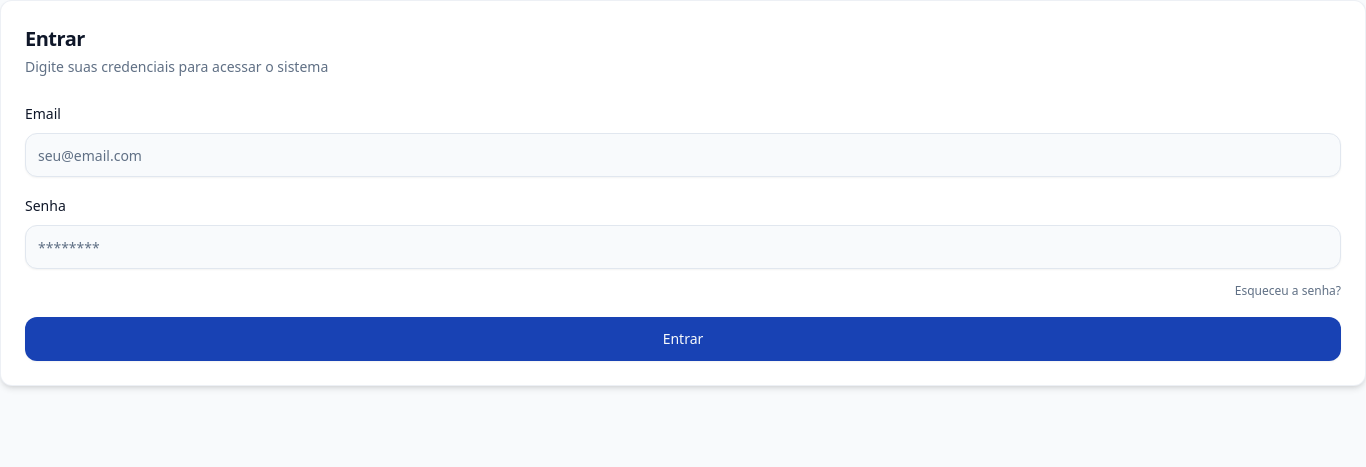
Test: LoginForm › displays auth error from supabase
This screenshot has width=1366, height=467.
In the field labelled "Email": (683, 155) [25,133,1341,177], type "user@test.com"
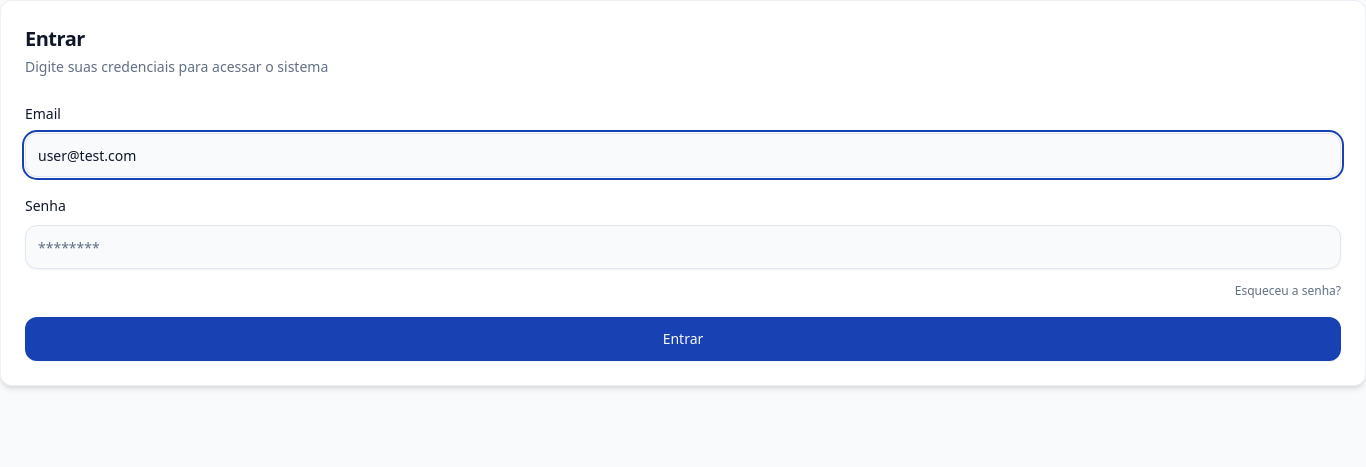
In the password field labelled "Senha": (683, 247) [25,225,1341,269], type "wrong"
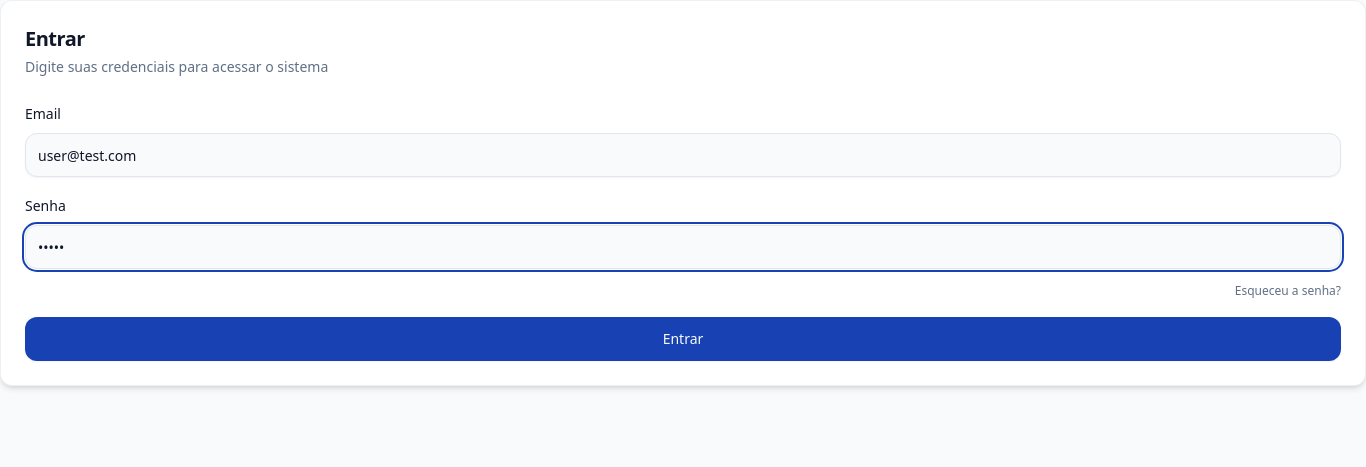
Submit the form from the button "Entrar", box [25,317,1341,361]
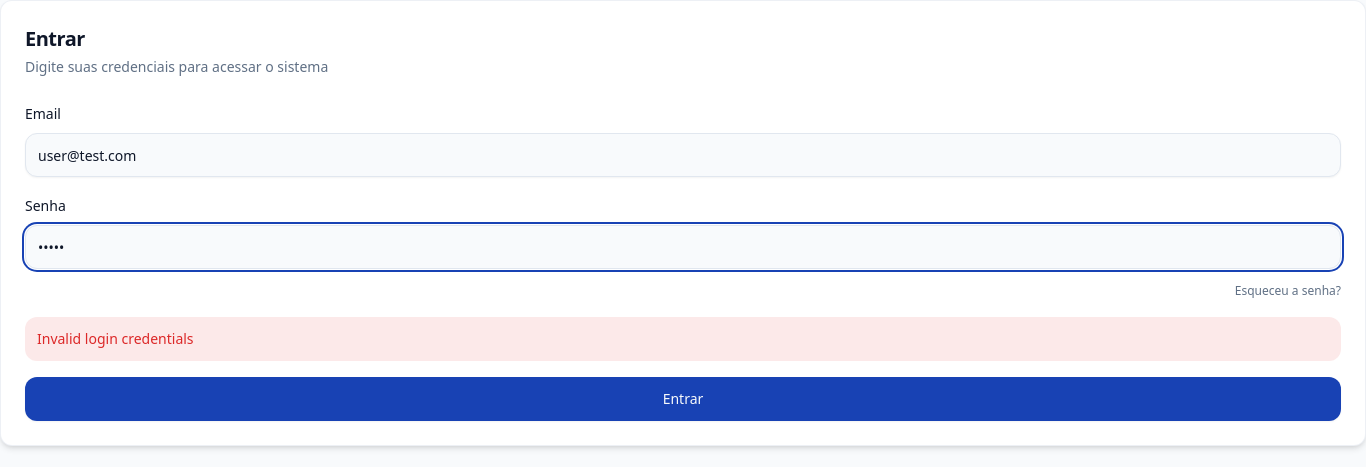
Check: the text "Invalid login credentials" is shown, box [25,317,1341,361]
